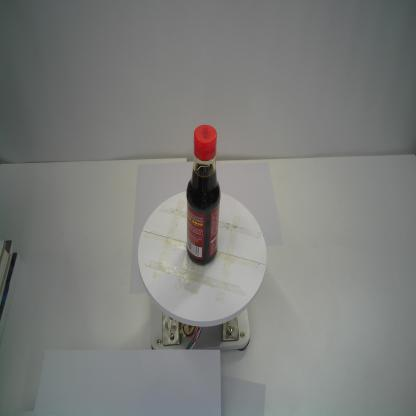Seasoner: (185, 124, 221, 266)
